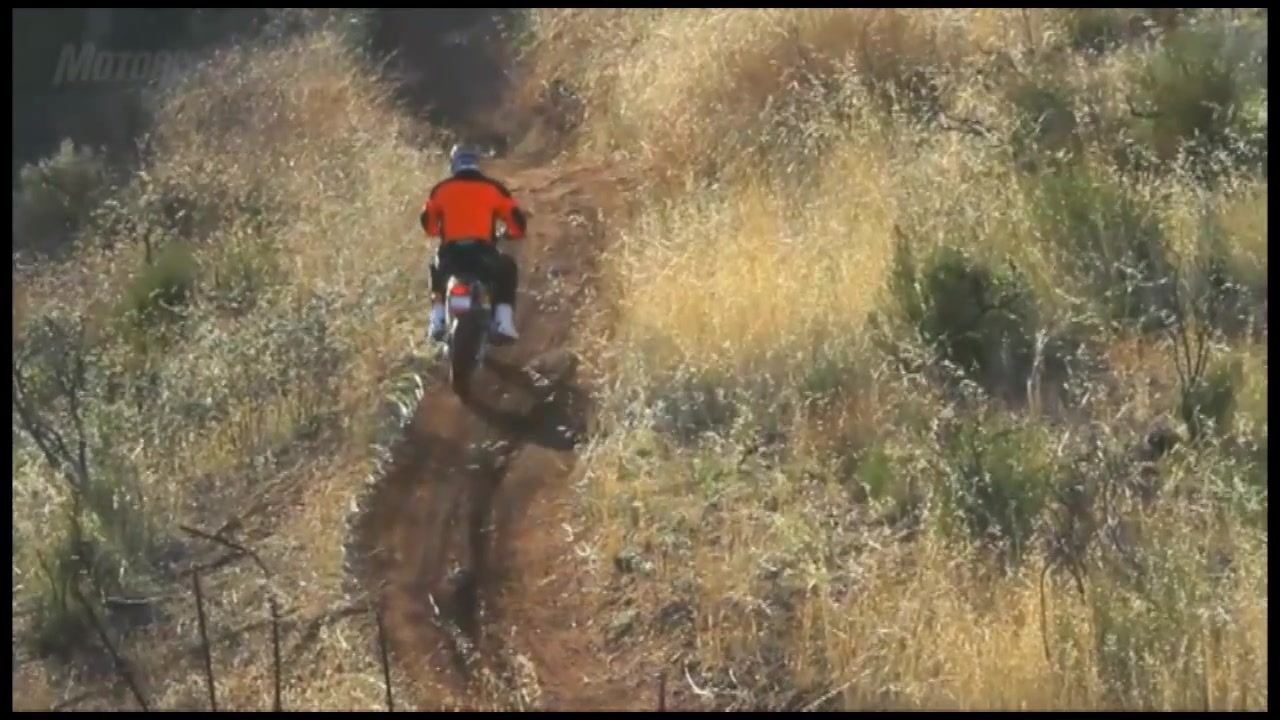motorbike: (433, 211, 514, 399)
